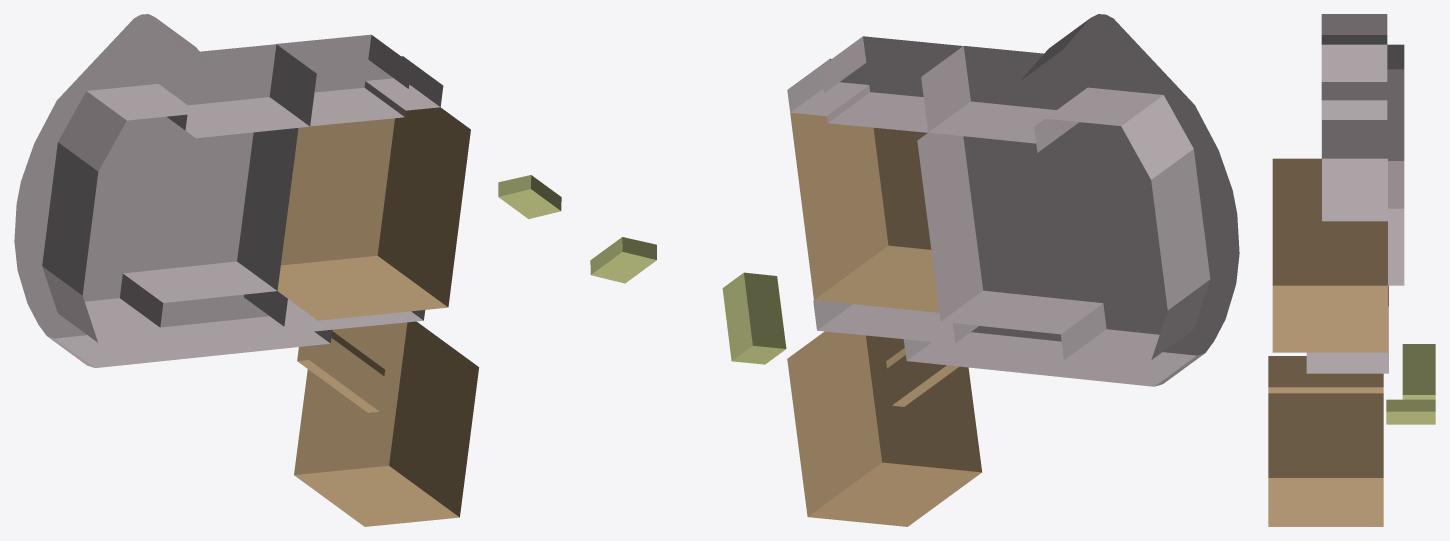
The picture shows the model from 3 angles, left to right: view 1: azimuth 30°, elevation 25°; view 2: azimuth 150°, elevation 25°; view 3: azimuth 270°, elevation 25°; orthographic projection. The views are drawn at different scales.
Parts seen in each view (by area): view 1: 0_0_1_3_2_2_1_2; view 2: 0_0_1_3_2_2_1_2; view 3: 0_0_1_3_2_2_1_2.
Boxes of the visible parts, bbox=[...] form: 0_0_1_3_2_2_1_2: bbox=[14, 14, 561, 526]; 0_0_1_3_2_2_1_2: bbox=[590, 14, 1239, 526]; 0_0_1_3_2_2_1_2: bbox=[1268, 14, 1435, 526].
Bounding box in the file's own units: 93.54 × 83.3 × 30.5.
